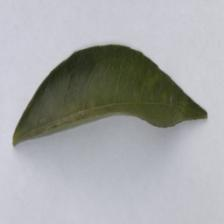healthy: (13, 43, 210, 152)
